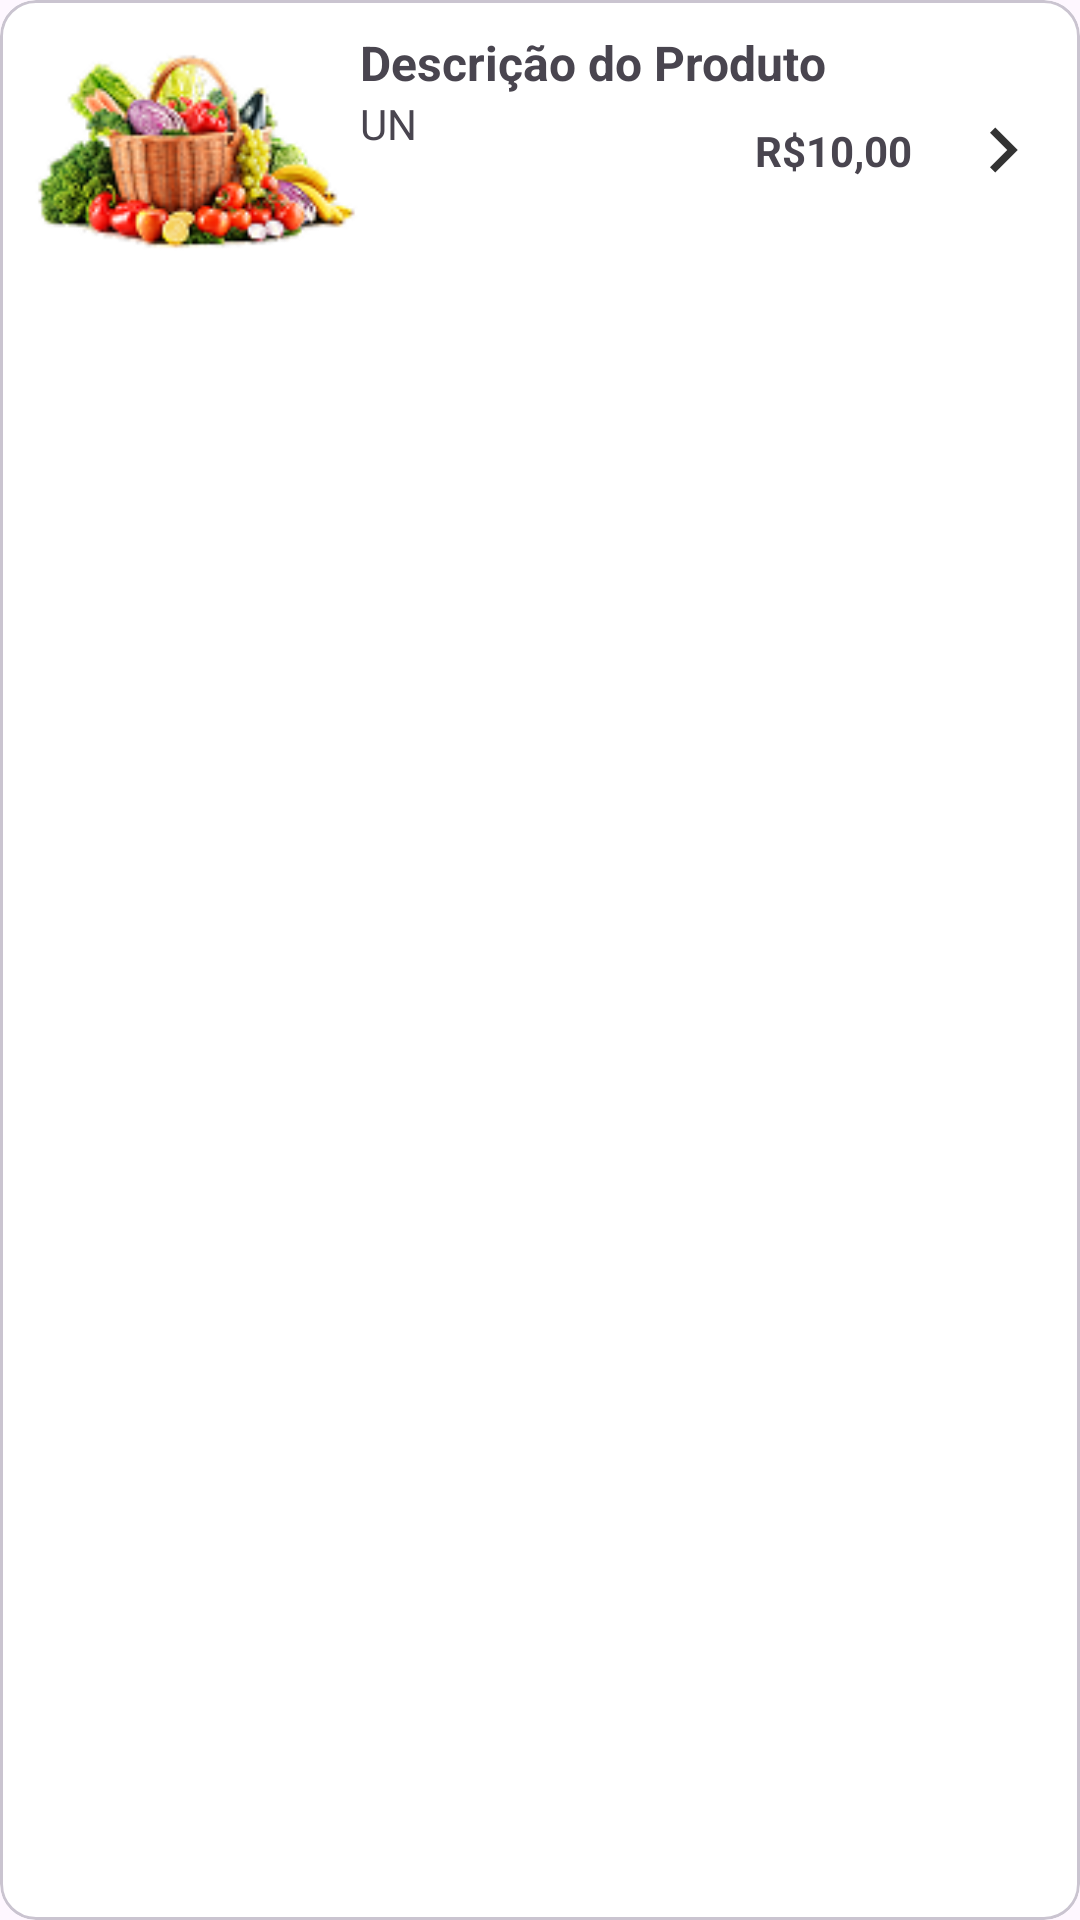

Icons on this 1080px×1920px Android screen, each with the point to tap as point (x, y):
fruta vegetal: point (196, 151)
